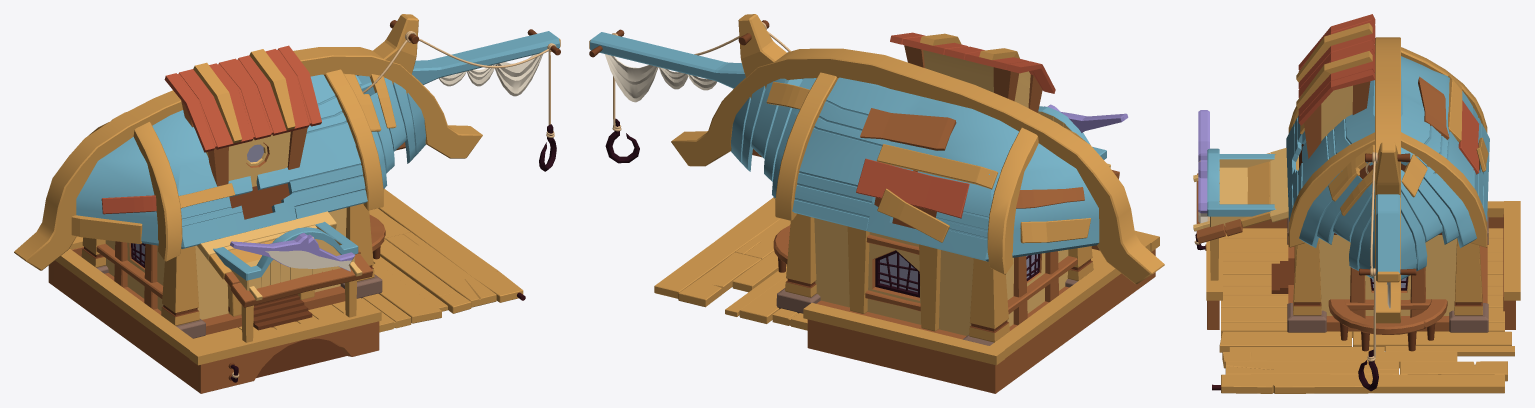
The model's file is draft_punk_detali_fishermanhouse.fbx.
3 views of the same model, side by side, from view 1: azimuth 30°, elevation 25°; view 2: azimuth 150°, elevation 25°; view 3: azimuth 270°, elevation 25° (orthographic). The views are drawn at different scales.
Parts seen in each view (by area): view 1: Cube.016; view 2: Cube.016; view 3: Cube.016.
Part boxes in pixels (left/top/right/bottom): Cube.016: left=14, top=14, right=560, bottom=393; Cube.016: left=589, top=14, right=1164, bottom=393; Cube.016: left=1193, top=14, right=1520, bottom=393.
Bounding box in the file's own units: 490 × 220 × 256.
